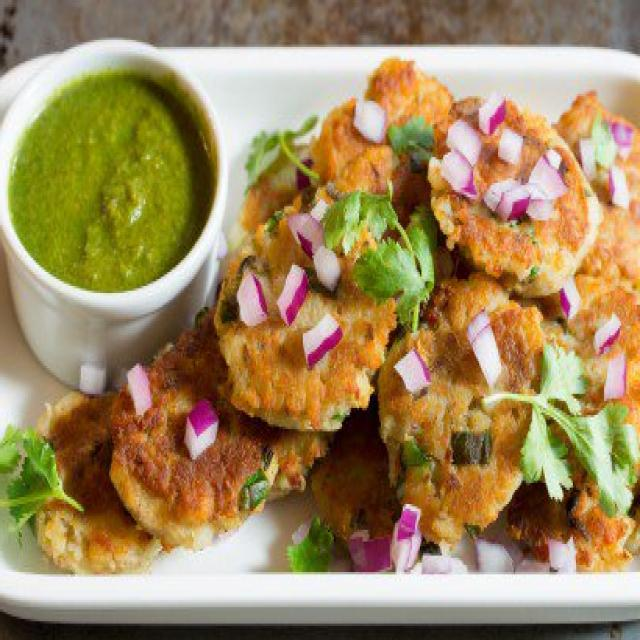Aloo Tikki: (114, 297, 328, 550), (214, 190, 402, 432), (381, 279, 546, 539), (429, 88, 593, 304), (27, 360, 180, 572), (310, 55, 464, 206)
